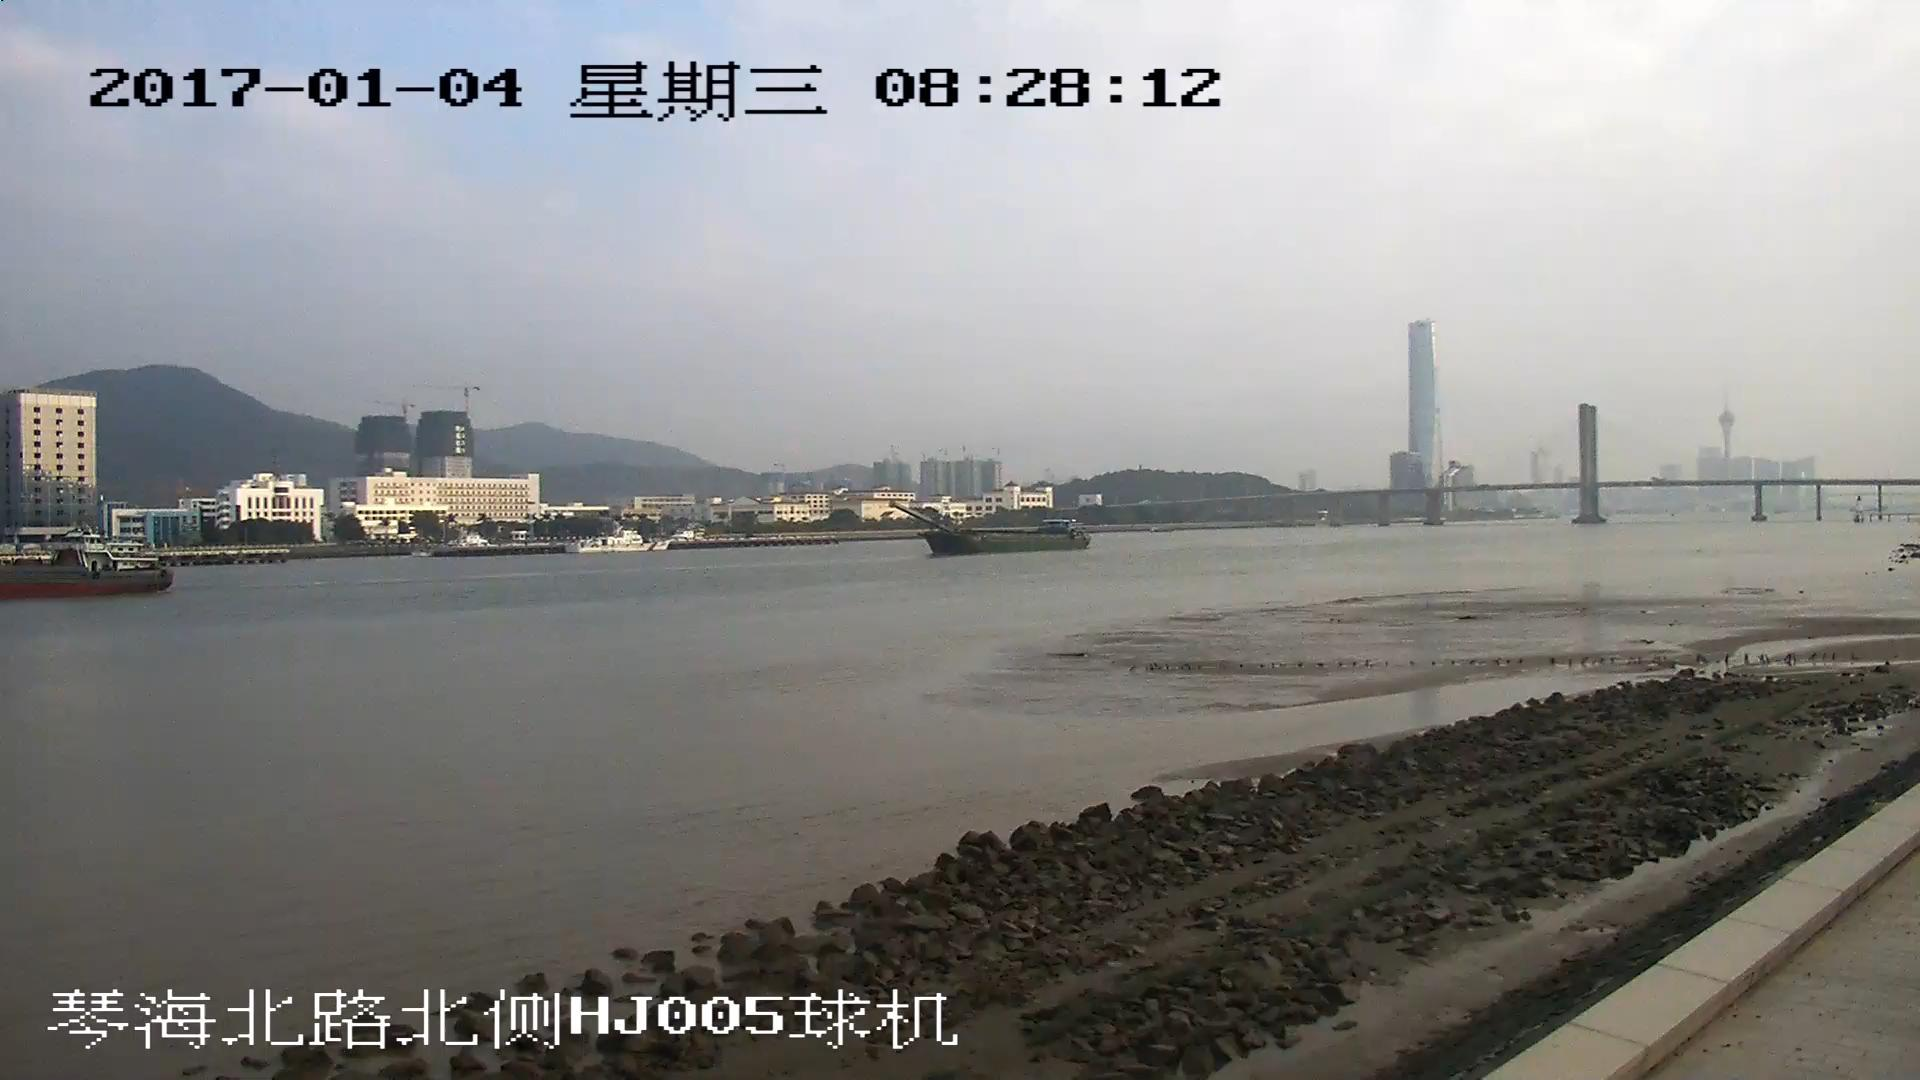Ship: (897, 506, 1087, 549)
